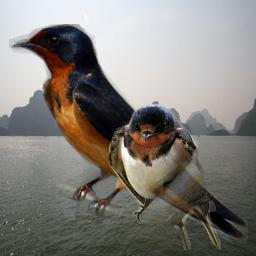Swallow: (9, 24, 248, 244), (109, 104, 221, 250)
